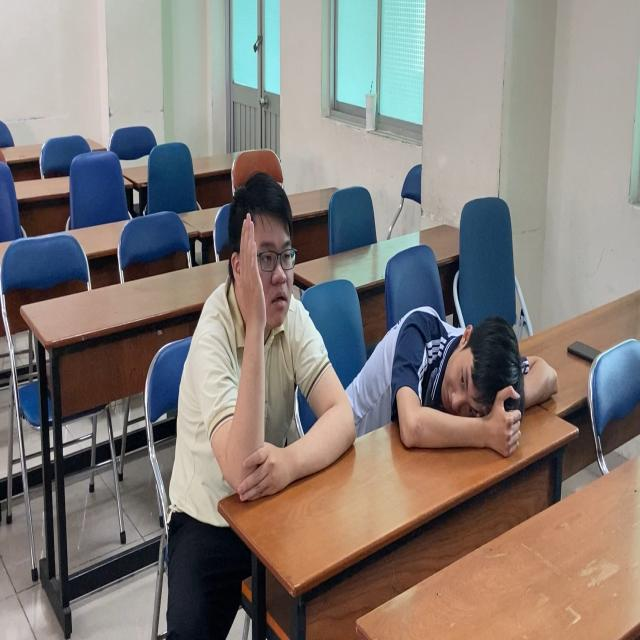raise_hand: (186, 169, 334, 523)
sleep: (350, 303, 567, 476)
